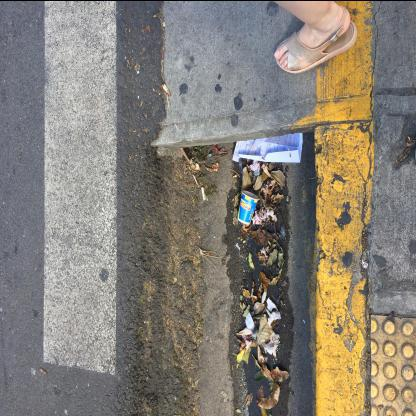kagit: (233, 133, 305, 164)
karton: (238, 190, 261, 226)
